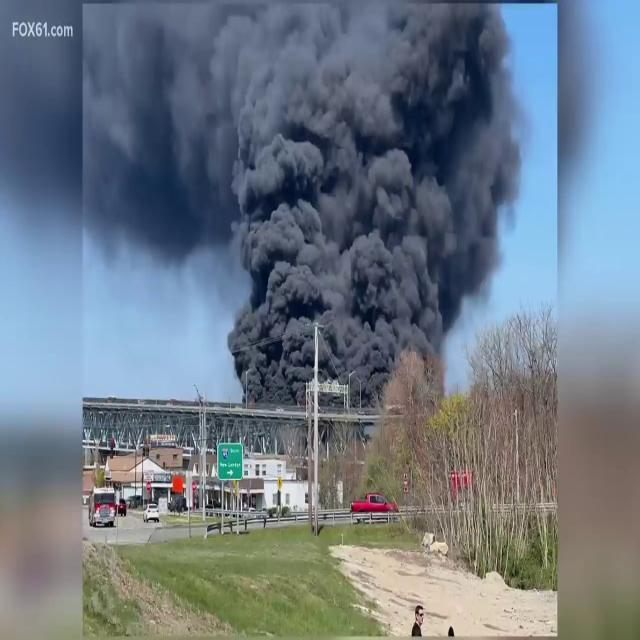Smoke: (85, 1, 536, 409)
